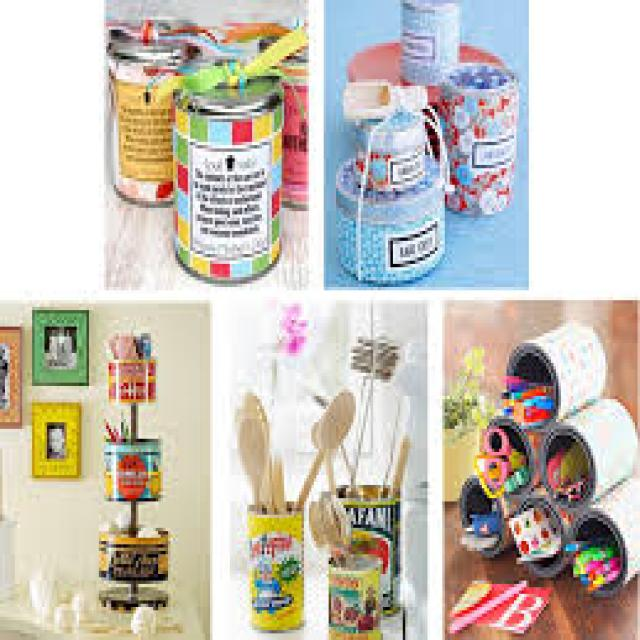metal: (171, 83, 279, 277), (106, 40, 203, 205), (334, 152, 442, 280), (440, 60, 516, 212), (504, 317, 605, 422), (539, 396, 635, 501), (566, 472, 637, 594), (331, 485, 398, 614), (257, 33, 304, 208), (242, 508, 302, 627), (356, 112, 422, 185), (400, 0, 457, 79), (326, 558, 378, 637), (99, 439, 161, 498), (96, 528, 163, 577), (104, 356, 156, 399), (96, 587, 168, 614)
